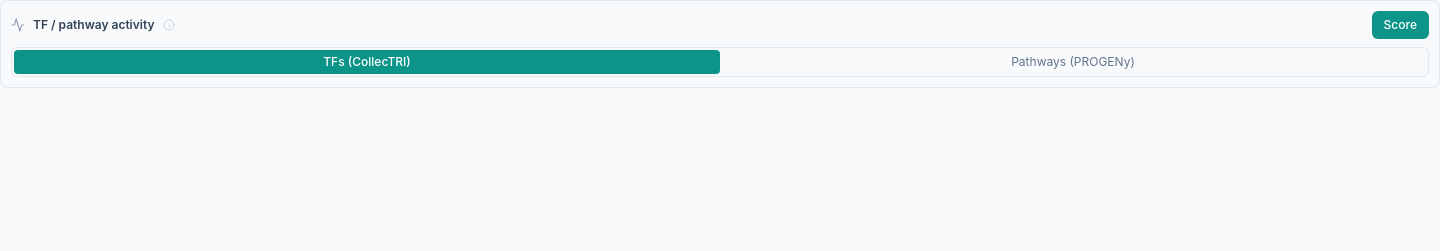
DEActivity › says when only the genes a prefiltered DE tested were scored
Step 1. Click the button "Score" → coordinates (1400, 25), box [1372, 11, 1429, 39]
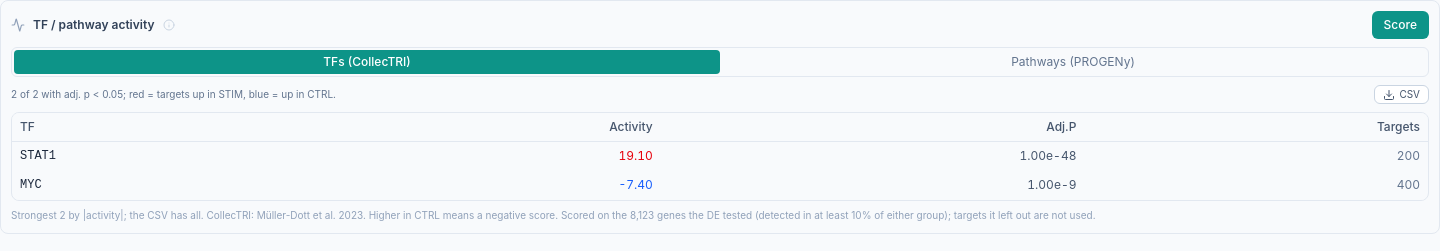
Expected: the text "STAT1" is shown, [12, 142, 314, 171]
Expected: the text "Scored on the 8,123 genes the DE tested (detected in at least 10% of either group)" is shown, [558, 209, 1096, 221]
